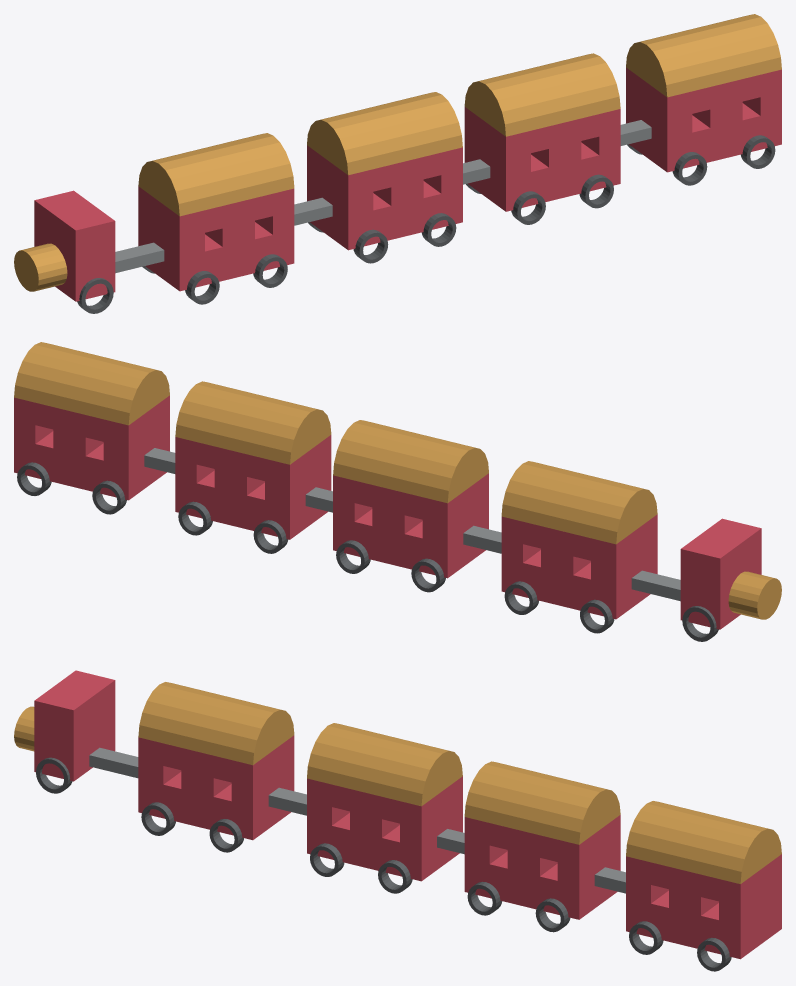
Rendered from Magnificent Leelo.glb.
The picture shows the model from 3 angles, top to bottom: view 1: azimuth 30°, elevation 25°; view 2: azimuth 150°, elevation 25°; view 3: azimuth 330°, elevation 25°; orthographic projection.
Parts seen in each view (by area): view 1: Mesh_Mesh_head_geo.001_lambert2SG.001; view 2: Mesh_Mesh_head_geo.001_lambert2SG.001; view 3: Mesh_Mesh_head_geo.001_lambert2SG.001.
Part boxes in pixels (box(x1,y1,x2,y2)): Mesh_Mesh_head_geo.001_lambert2SG.001: box(14, 14, 781, 313); Mesh_Mesh_head_geo.001_lambert2SG.001: box(14, 342, 781, 641); Mesh_Mesh_head_geo.001_lambert2SG.001: box(14, 670, 781, 971).
Bounding box in the file's own units: 205 × 34 × 24.
